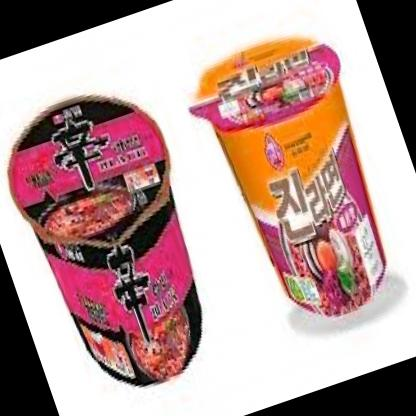Ramen: (0, 75, 239, 410), (177, 16, 416, 333)
